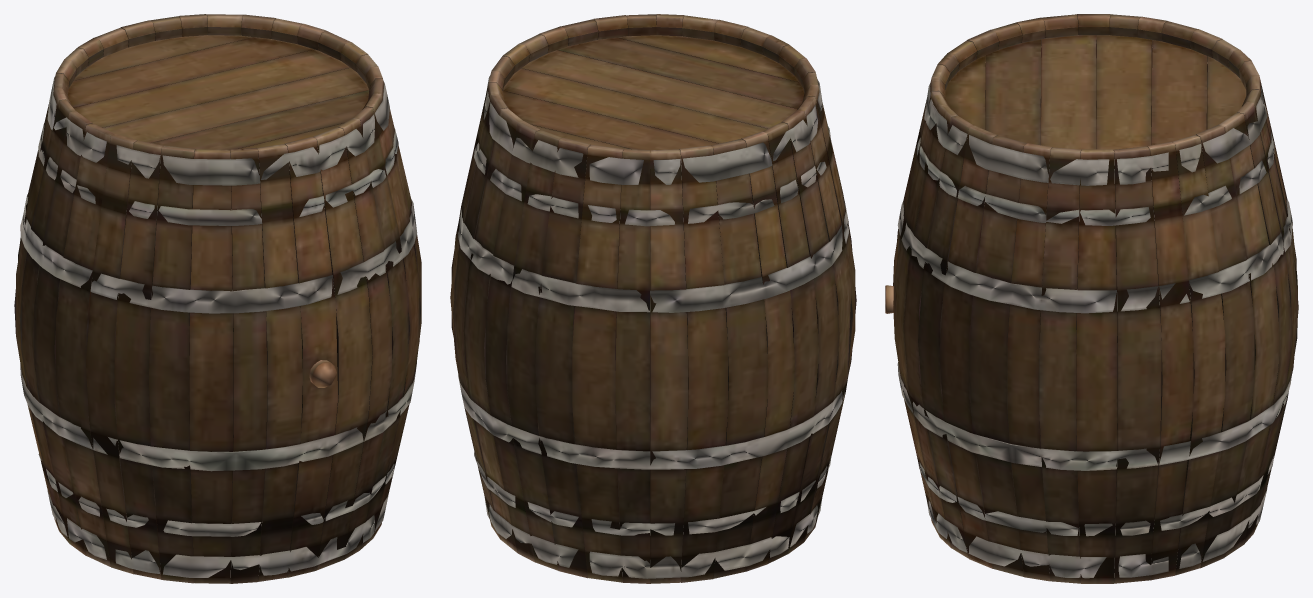
File: wine_barrel_01.glb
The picture shows the model from 3 angles, left to right: view 1: azimuth 30°, elevation 25°; view 2: azimuth 150°, elevation 25°; view 3: azimuth 270°, elevation 25°; orthographic projection.
Parts seen in each view (by area): view 1: wine_barrel_01_Lid; view 2: wine_barrel_01_Lid; view 3: wine_barrel_01_Lid.
Boxes of the visible parts, left/top/right/bottom form: wine_barrel_01_Lid: left=14, top=14, right=421, bottom=583; wine_barrel_01_Lid: left=450, top=14, right=856, bottom=583; wine_barrel_01_Lid: left=885, top=14, right=1298, bottom=583.
Size of the model in its own units: 0.7419 by 0.8696 by 0.7552.
1 material, 1 textured.
